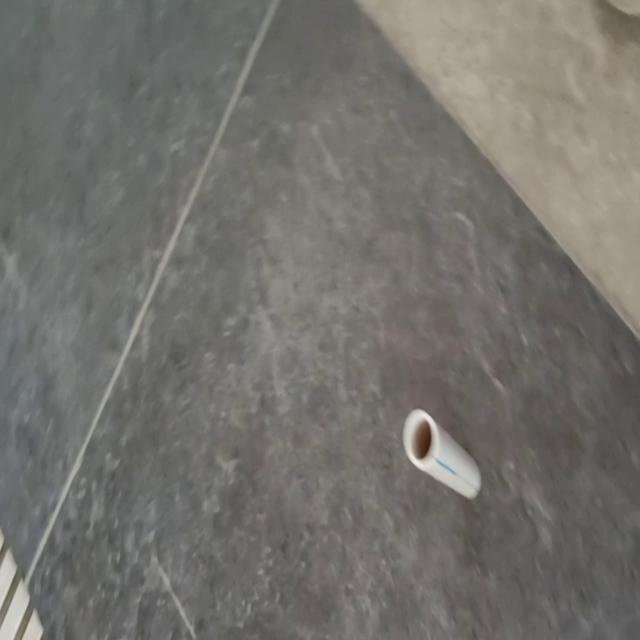Cube: (402, 406, 482, 501)
